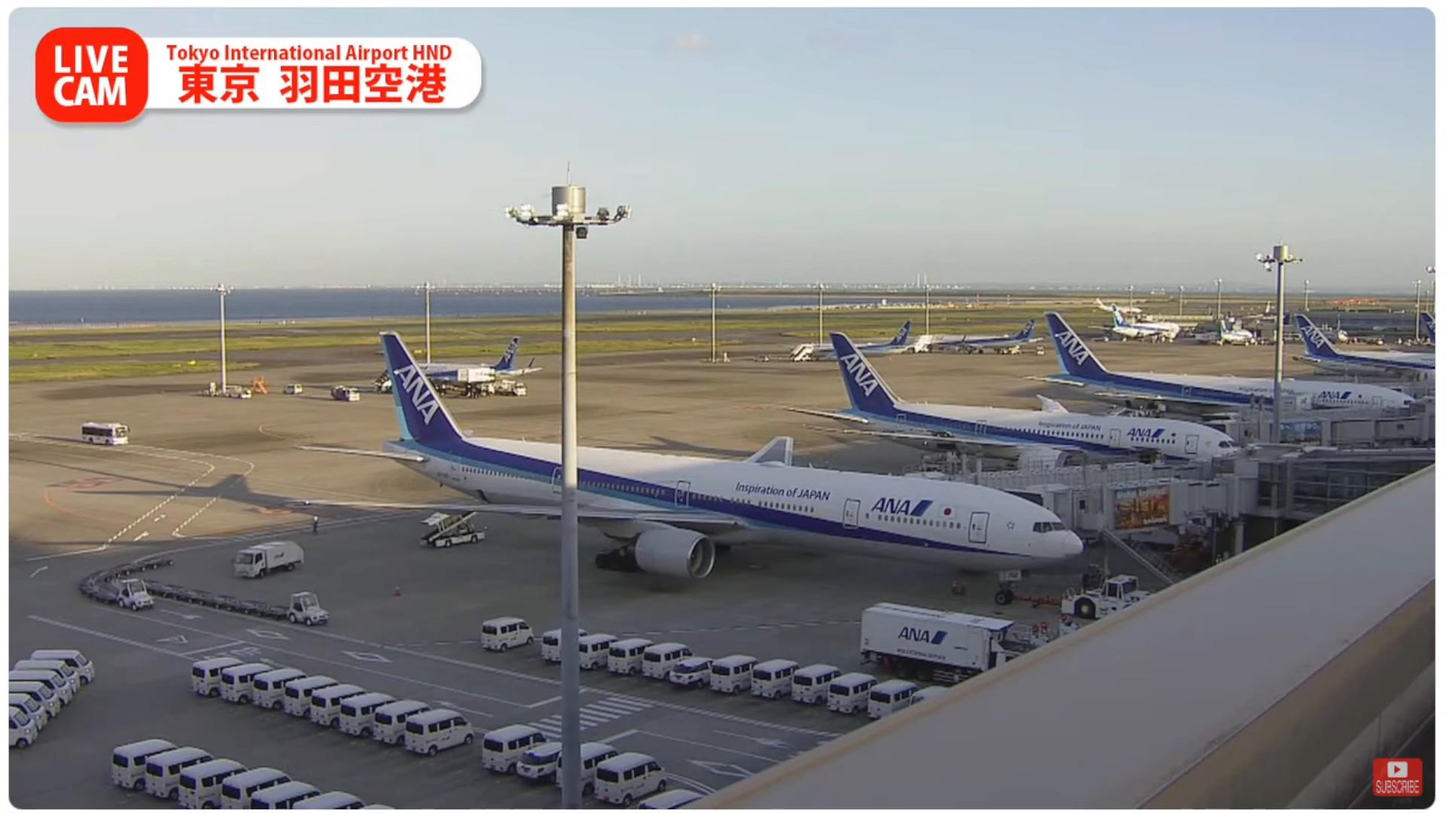APS: (1060, 576, 1157, 618)
Aerobridge: (990, 474, 1217, 523), (903, 458, 1204, 486)
Airplane: (290, 334, 1076, 584)
Baggage truck: (227, 540, 306, 578)
Catering: (859, 603, 1065, 681)
Dolly: (145, 577, 288, 622), (78, 556, 177, 605)
Skyloader: (424, 510, 487, 546)
Tractor: (287, 589, 332, 625), (115, 579, 156, 613)
Window: (1253, 443, 1435, 520)
